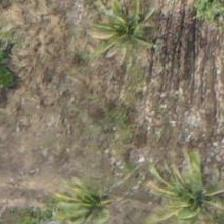coconut_tree: (77, 0, 167, 79), (43, 165, 133, 223), (151, 153, 223, 223)
